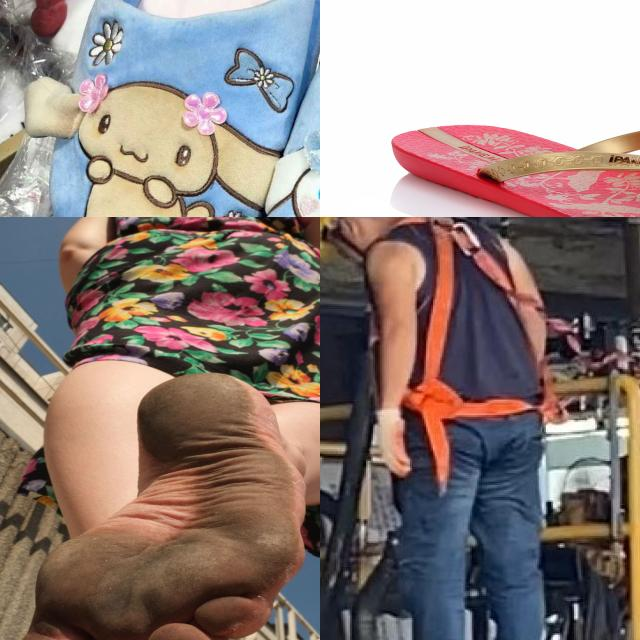Barefoots: (3, 372, 306, 640)
Harness: (390, 217, 548, 492)
Sandals: (31, 0, 320, 217), (388, 122, 640, 217)
